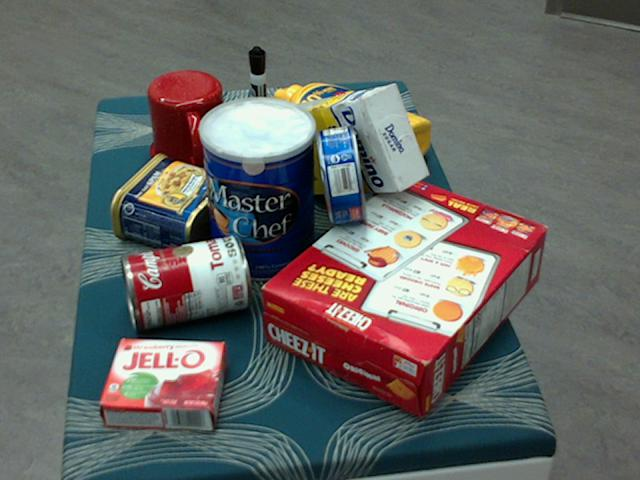cracker_box: (260, 173, 547, 416)
gelatin_box: (99, 337, 226, 430)
large_marker: (247, 46, 269, 149)
master_chef_can: (198, 98, 315, 284)
mug: (147, 70, 232, 172)
mustard_bottle: (272, 82, 430, 179)
potted_meat_can: (109, 154, 235, 254)
sugar_box: (269, 85, 427, 193)
tomato_soup_can: (119, 236, 248, 329)
tuna_fish_can: (316, 123, 367, 222)
